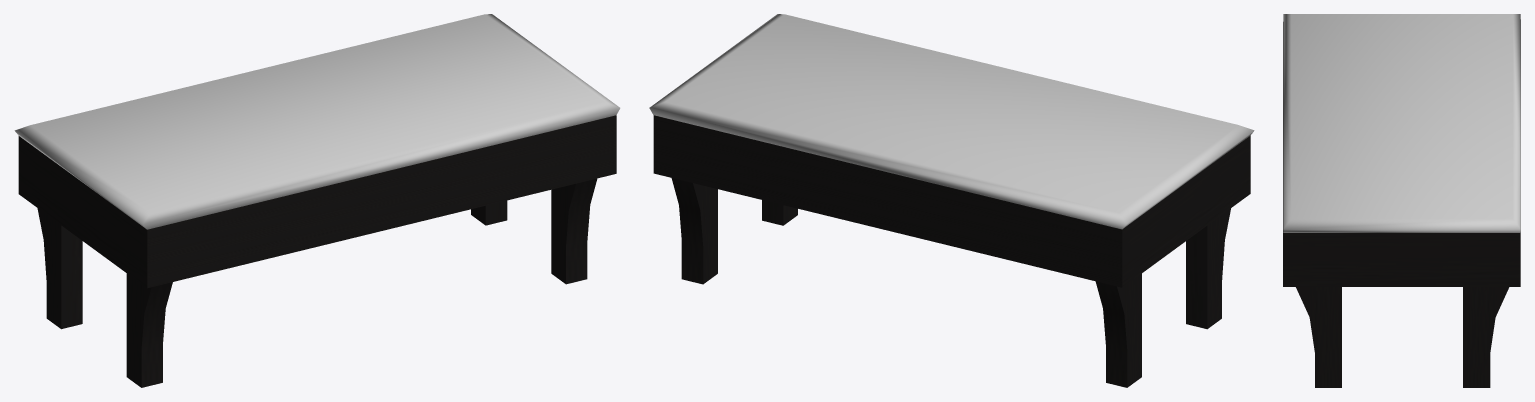
Rendered from Piano_B_Bench.FBX.
3 renders of one model, left to right at view 1: azimuth 30°, elevation 25°; view 2: azimuth 150°, elevation 25°; view 3: azimuth 270°, elevation 25°, orthographic. The views are drawn at different scales.
Visible parts, largest first — view 1: Bench_lid, Piano Bench; view 2: Bench_lid, Piano Bench; view 3: Bench_lid, Piano Bench.
Boxes of the visible parts, x1,y1,x2,y2 form: Bench_lid: (14, 14, 620, 229); Piano Bench: (18, 115, 616, 387); Bench_lid: (649, 14, 1254, 229); Piano Bench: (653, 115, 1250, 387); Bench_lid: (1283, 14, 1520, 232); Piano Bench: (1283, 22, 1520, 387).
Size of the model in its own units: 214 by 79.26 by 99.76.
